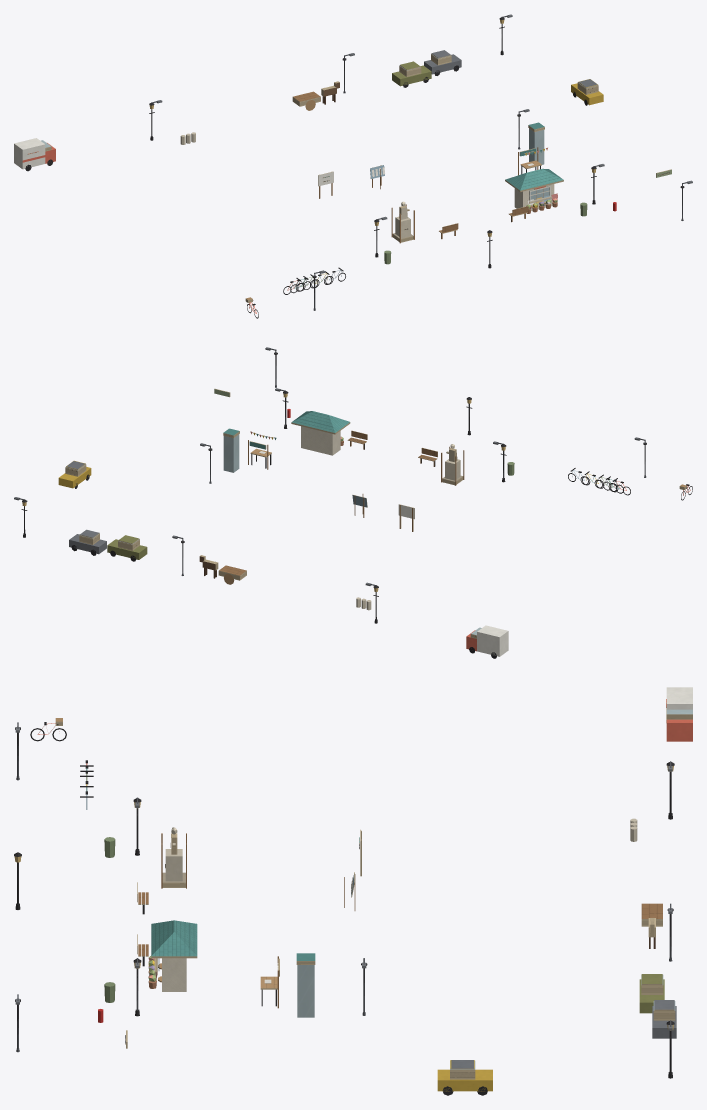
The model's file is props.glb.
The picture shows the model from 3 angles, top to bottom: view 1: azimuth 30°, elevation 25°; view 2: azimuth 150°, elevation 25°; view 3: azimuth 270°, elevation 25°; orthographic projection. The views are drawn at different scales.
Parts seen in each view (by area): view 1: props__1986__set, props__1946__set, props__2026__set, van__delivery__body, car__lane__body; view 2: props__1986__set, props__1946__set, props__2026__set, van__delivery__body, car__lane__body; view 3: props__1986__set, props__1946__set, props__2026__set, van__delivery__body, car__lane__body.
Part boxes in pixels (box(x1,y1,x2,y2)): props__1986__set: box(151, 14, 692, 310); props__1946__set: box(149, 17, 596, 268); props__2026__set: box(151, 24, 684, 299); van__delivery__body: box(14, 138, 55, 171); car__lane__body: box(424, 50, 461, 75); props__1986__set: box(14, 347, 646, 585); props__1946__set: box(21, 391, 506, 623); props__2026__set: box(24, 352, 646, 603); van__delivery__body: box(466, 625, 508, 658); car__lane__body: box(69, 529, 106, 555); props__1986__set: box(15, 722, 672, 1095); props__1946__set: box(14, 762, 674, 1078); props__2026__set: box(15, 727, 673, 1054); van__delivery__body: box(666, 687, 692, 741); car__lane__body: box(652, 1000, 676, 1038).
Size of the model in its own units: 28.86 by 2.05 by 22.16.
8 materials, 8 textured.
